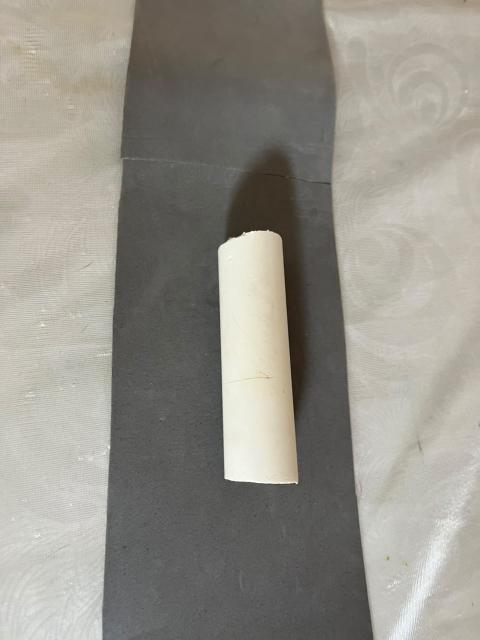PVC: (160, 182, 342, 513)
